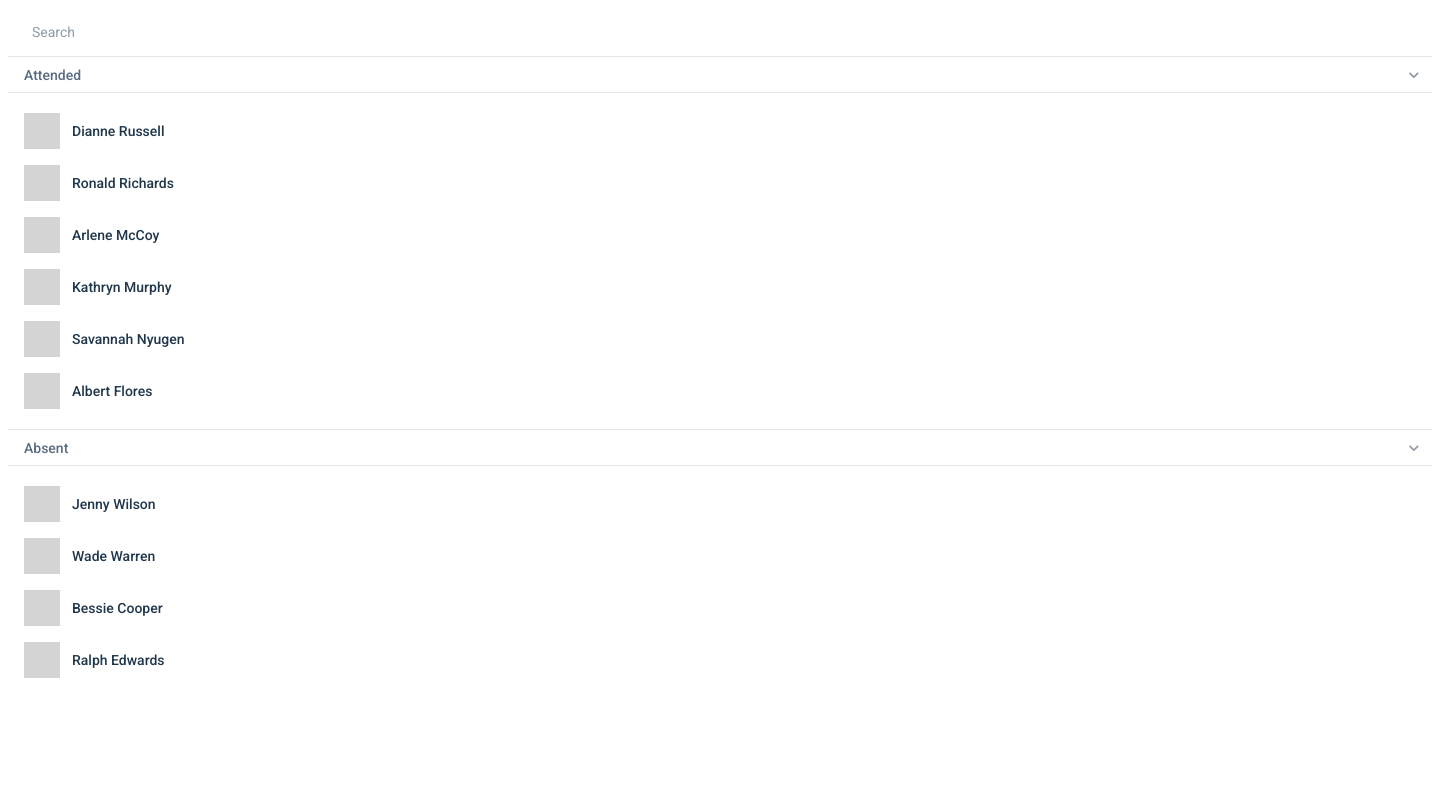
Test: Searching does not show matches in collapsed sections
The width and height of the screenshot is (1440, 810).
Click the button "Absent" at x=46, y=448, box [8,429,1432,466]
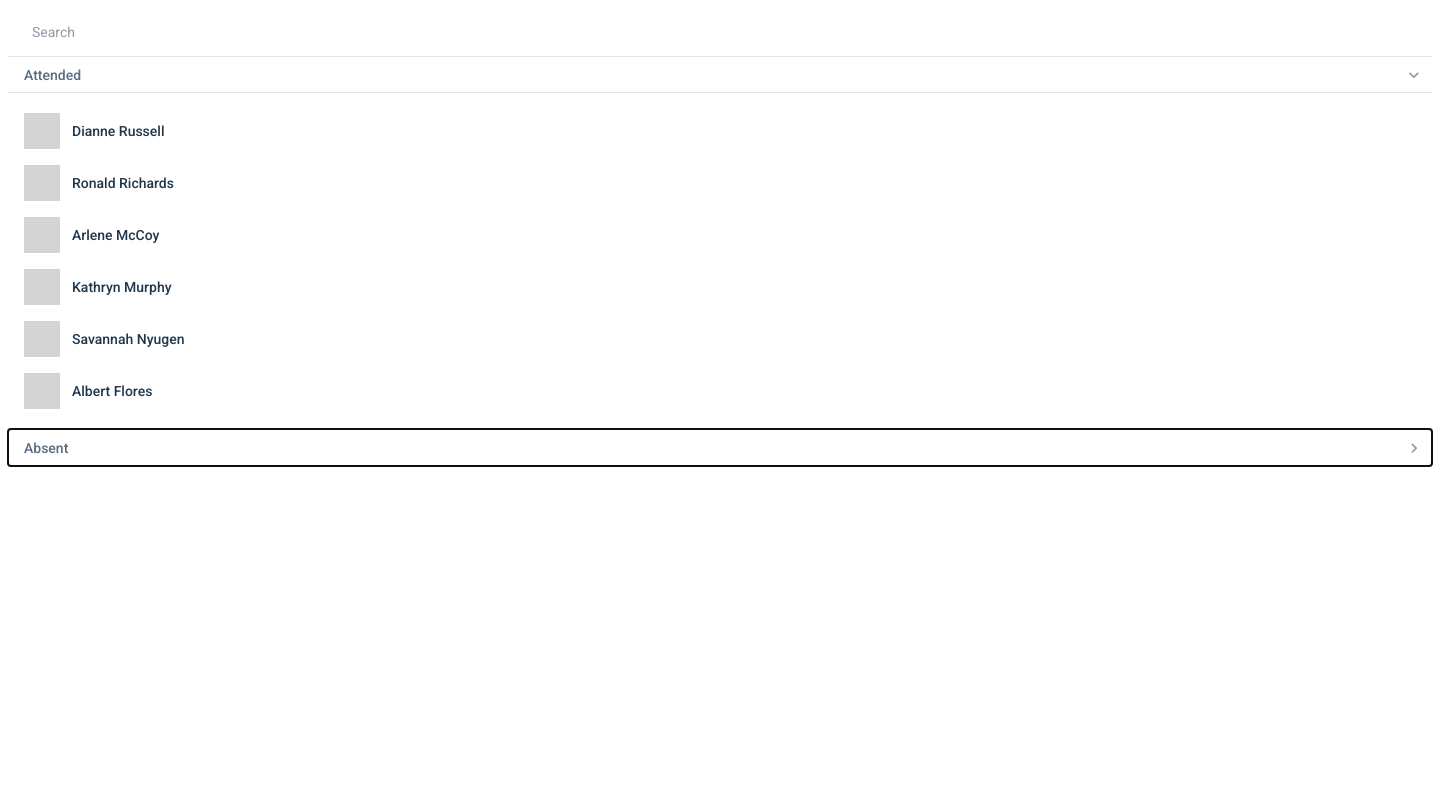
Type "R" into the field at x=724, y=32, box [32,22,1416,42]
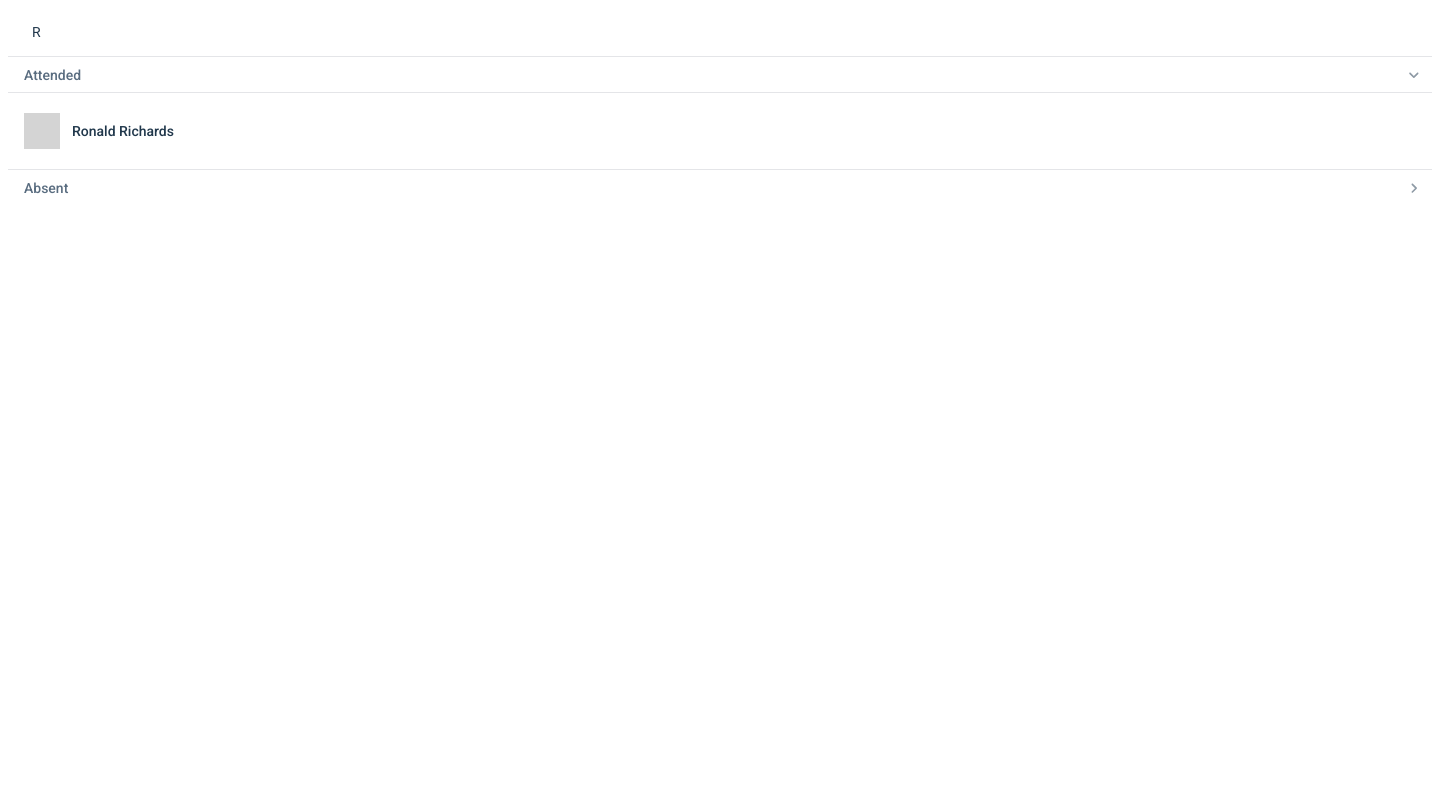
expect the button "Ralph Edwards" is not shown: met
expect the text "Ronald Richards" is shown: met, box [72,121,174,141]
